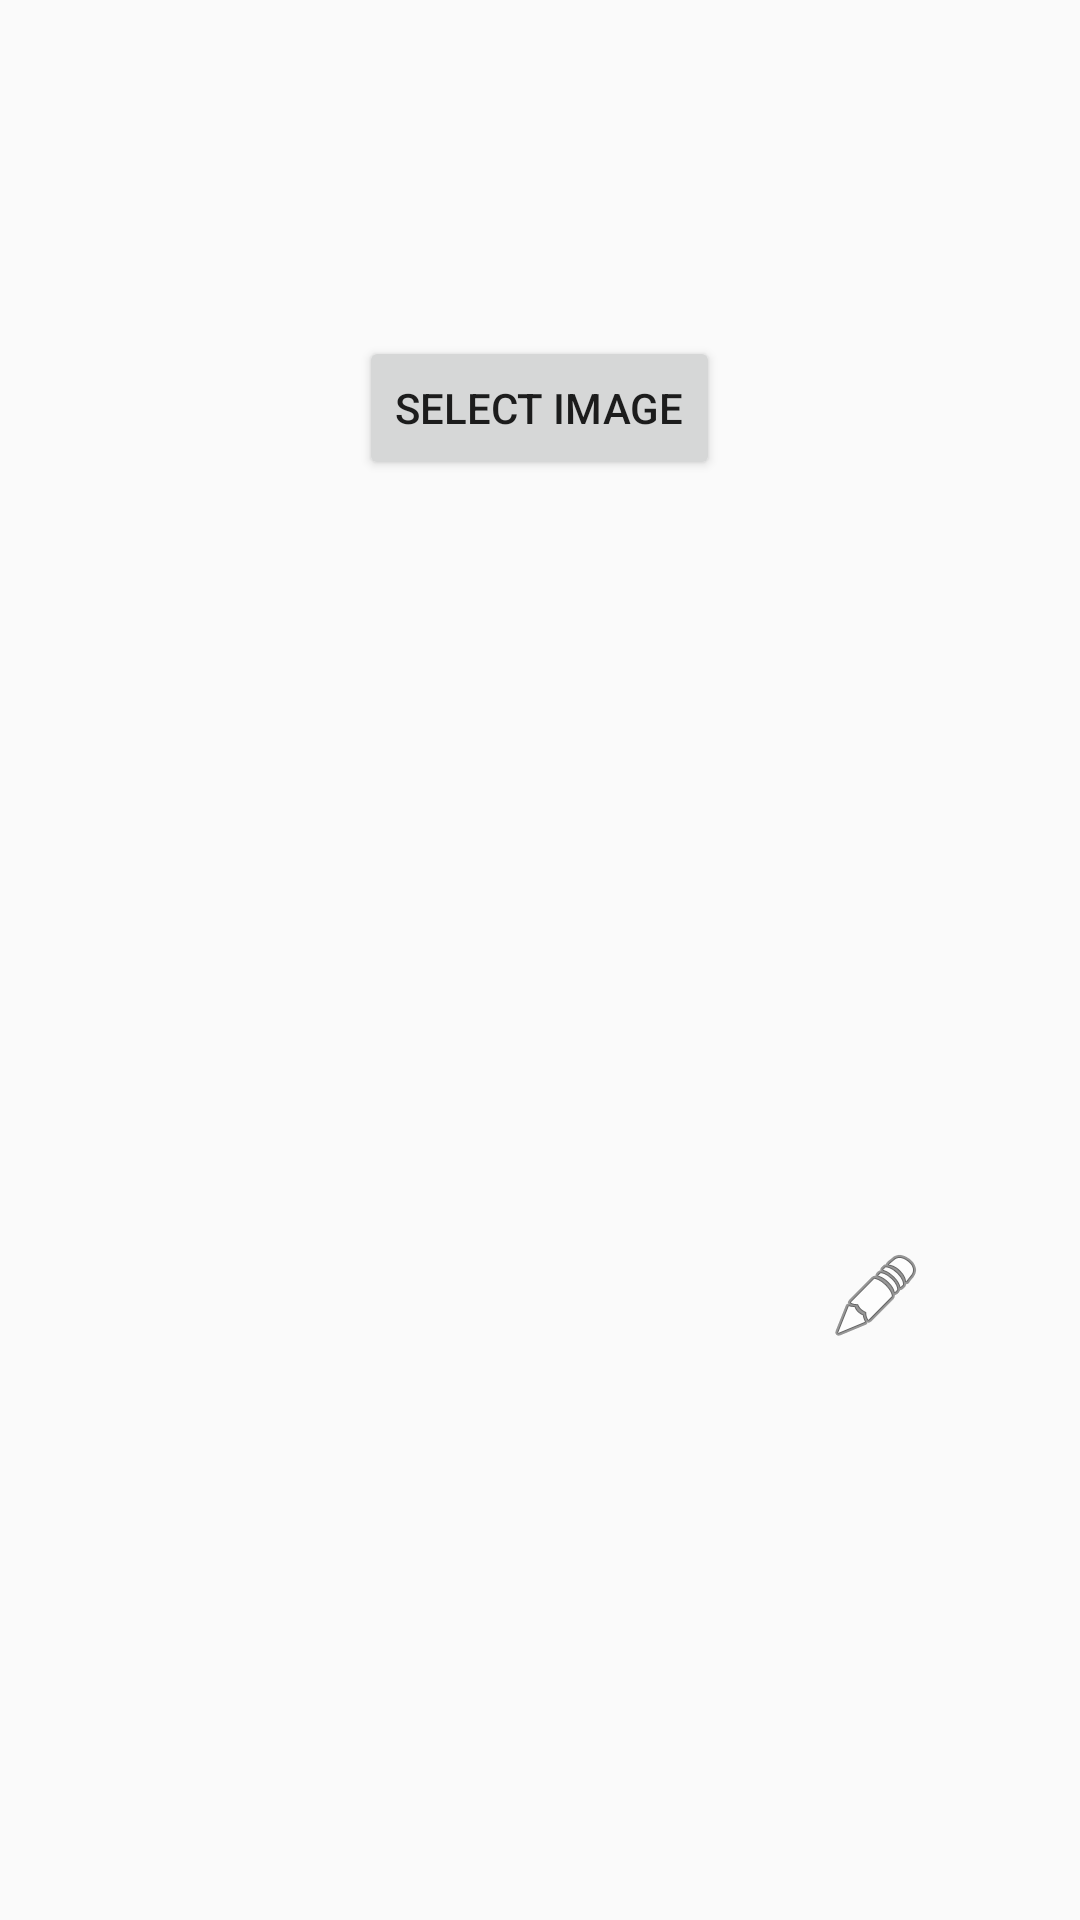

Icons on this 1080*1920 Android screen, each with its box as (x1, y1, x2, y2):
edit: (835, 1255, 916, 1336)
